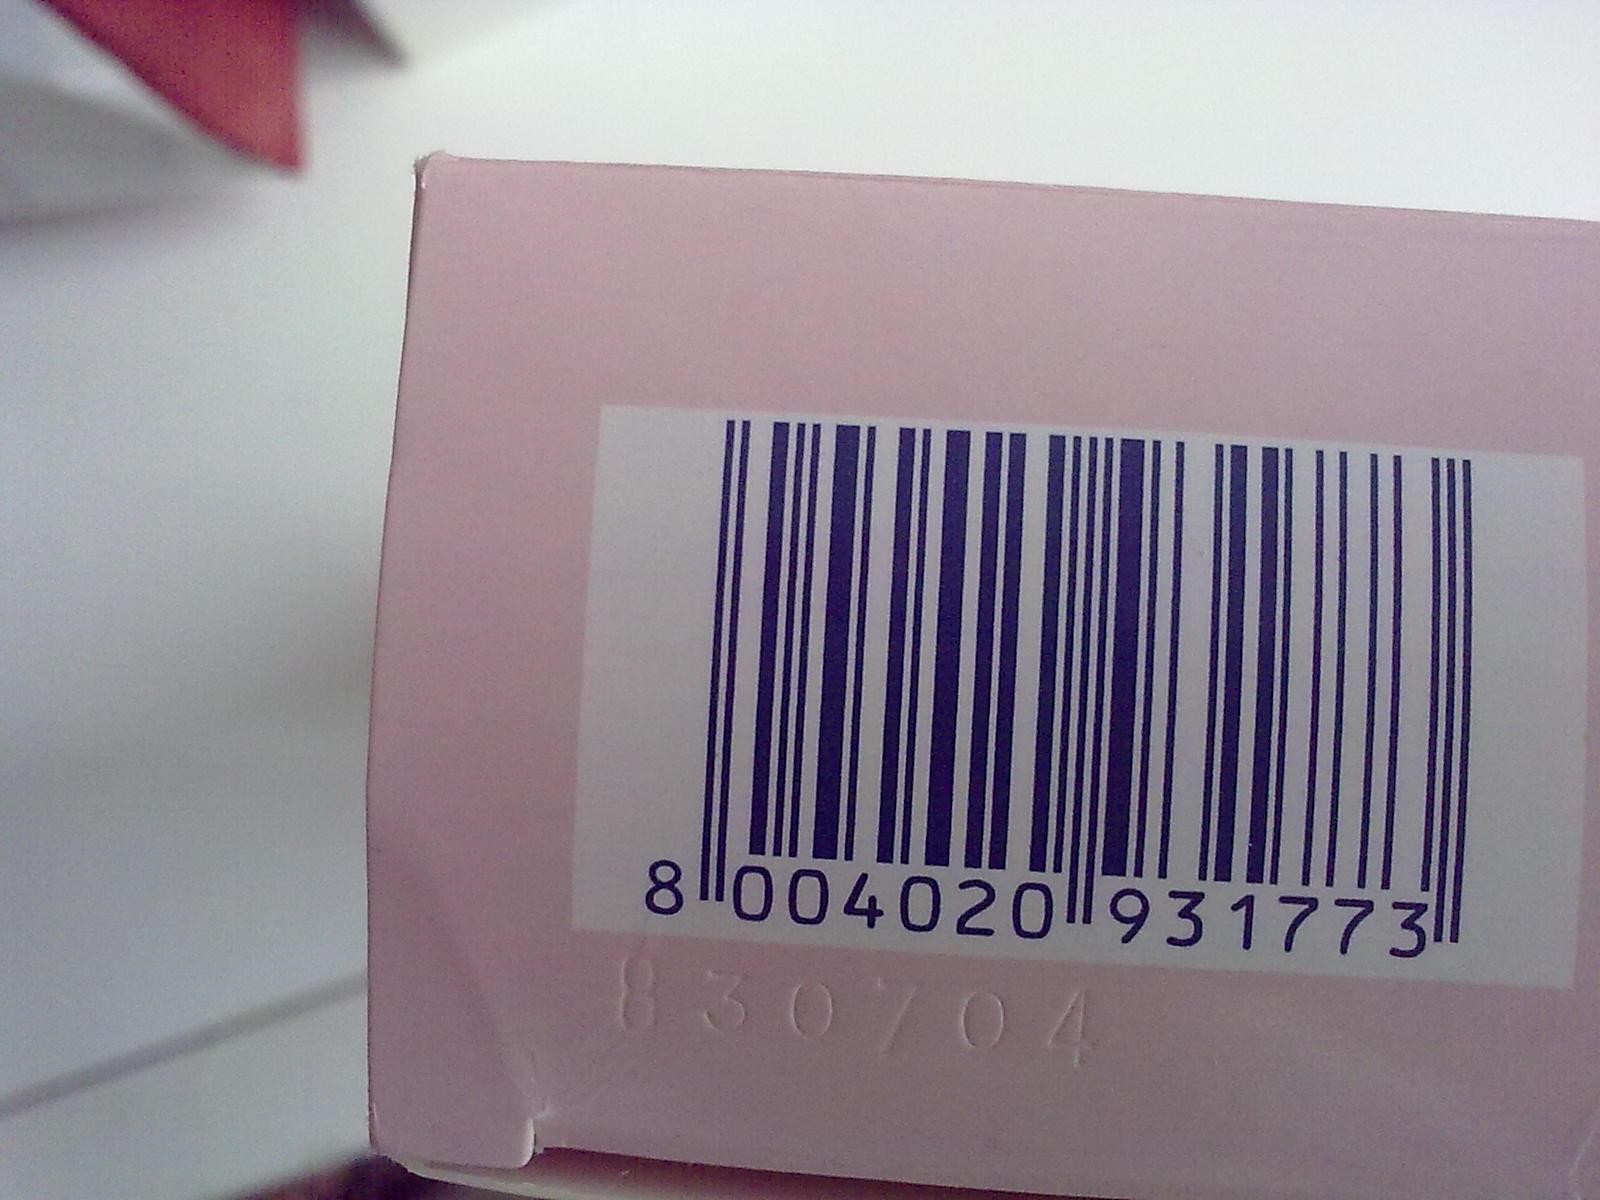Barcode: (564, 400, 1585, 995)
